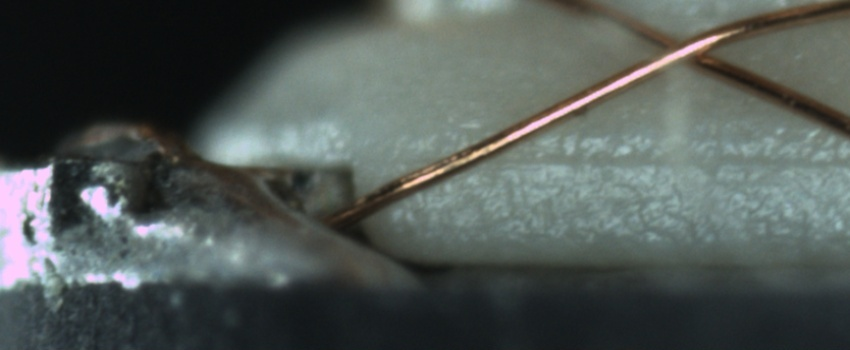CL: (631, 19, 731, 76)
DL: (408, 132, 850, 193)
